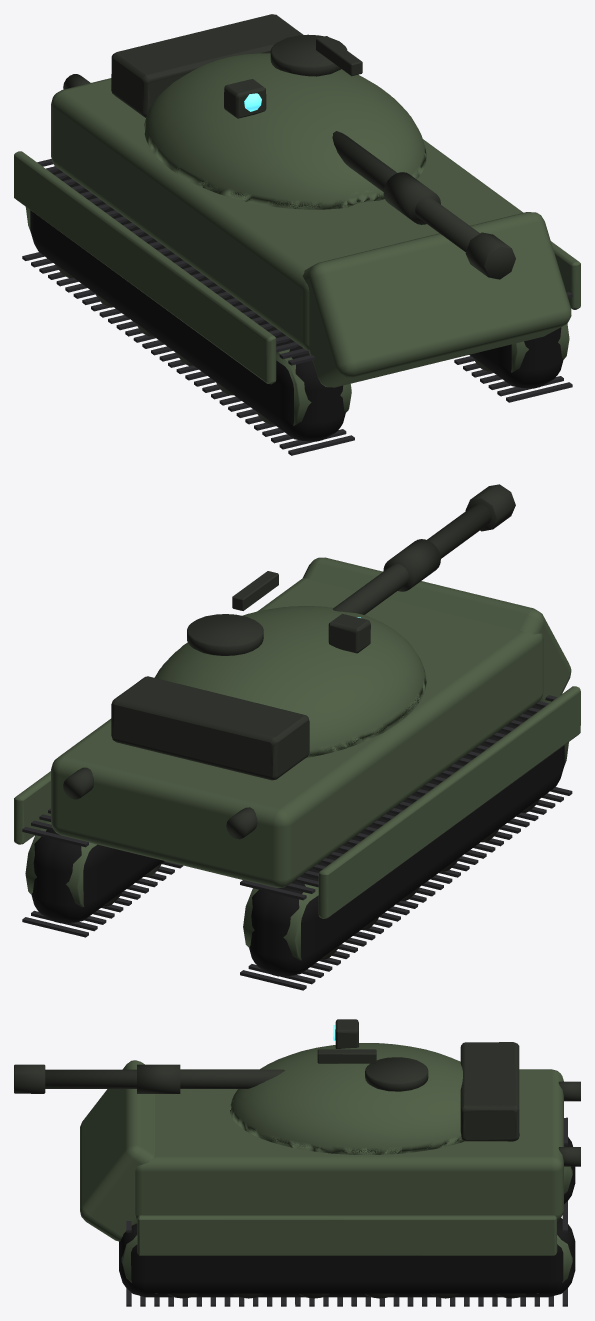
The model's file is kampvogn_std.glb.
The picture shows the model from 3 angles, top to bottom: view 1: azimuth 30°, elevation 25°; view 2: azimuth 150°, elevation 25°; view 3: azimuth 270°, elevation 25°; orthographic projection. The views are drawn at different scales.
Visible parts, largest first — view 1: krop_net; view 2: krop_net; view 3: krop_net.
Boxes of the visible parts, x1,y1,x2,y2 form: krop_net: (14,14,580,455); krop_net: (14,484,580,990); krop_net: (14,1019,580,1306).
Size of the model in its own units: 1.17 by 0.937 by 2.23.
